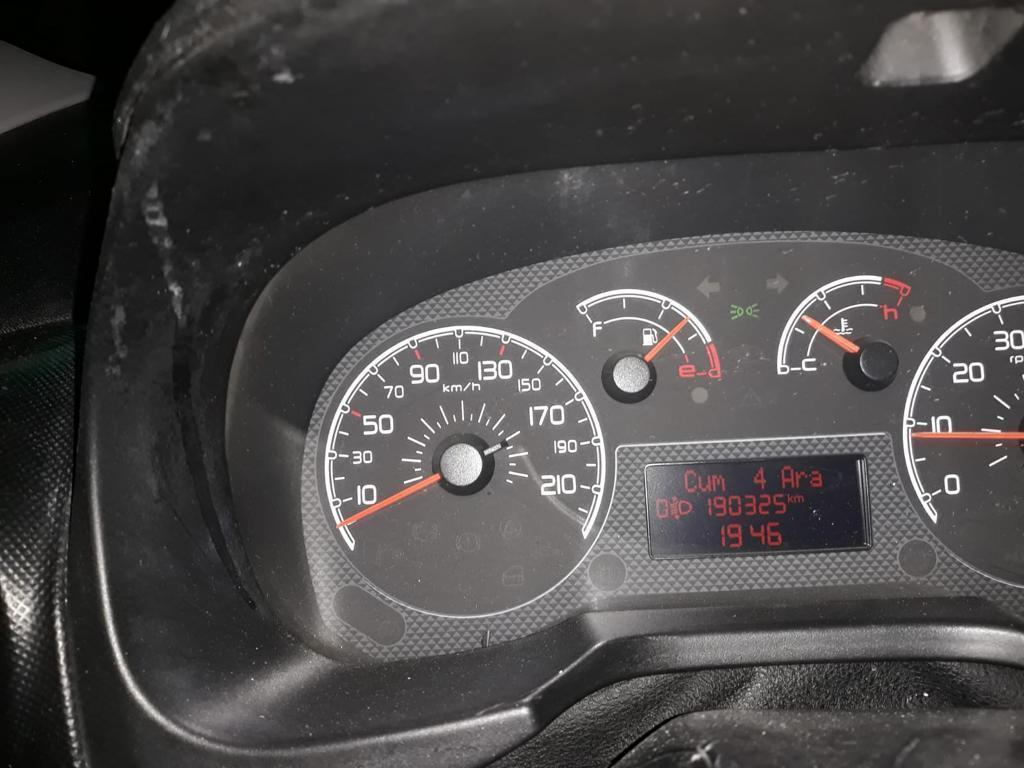0: (727, 494, 743, 517), (654, 496, 669, 520)
1: (717, 523, 727, 548), (704, 495, 713, 517)
2: (757, 493, 771, 515)
3: (742, 493, 757, 516)
4: (751, 464, 767, 490), (748, 522, 765, 546)
5: (772, 491, 786, 514)
6: (766, 520, 783, 547)
9: (726, 521, 744, 548), (712, 495, 726, 517)
X: (681, 468, 697, 494), (780, 465, 795, 489), (808, 469, 824, 489), (711, 472, 726, 492), (794, 469, 808, 489), (698, 473, 711, 493), (793, 494, 803, 503), (786, 492, 793, 503)
odometer: (641, 452, 873, 563)
